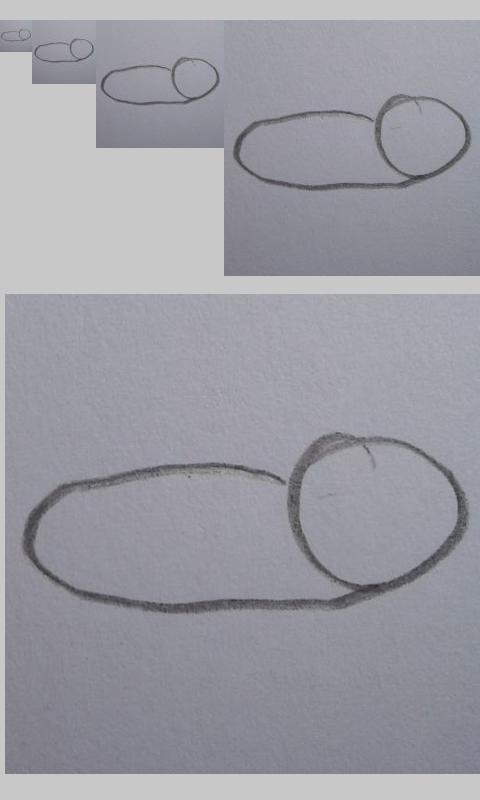switch: (18, 425, 480, 621), (229, 89, 474, 195), (99, 54, 224, 110), (33, 37, 96, 64), (1, 27, 33, 43)
